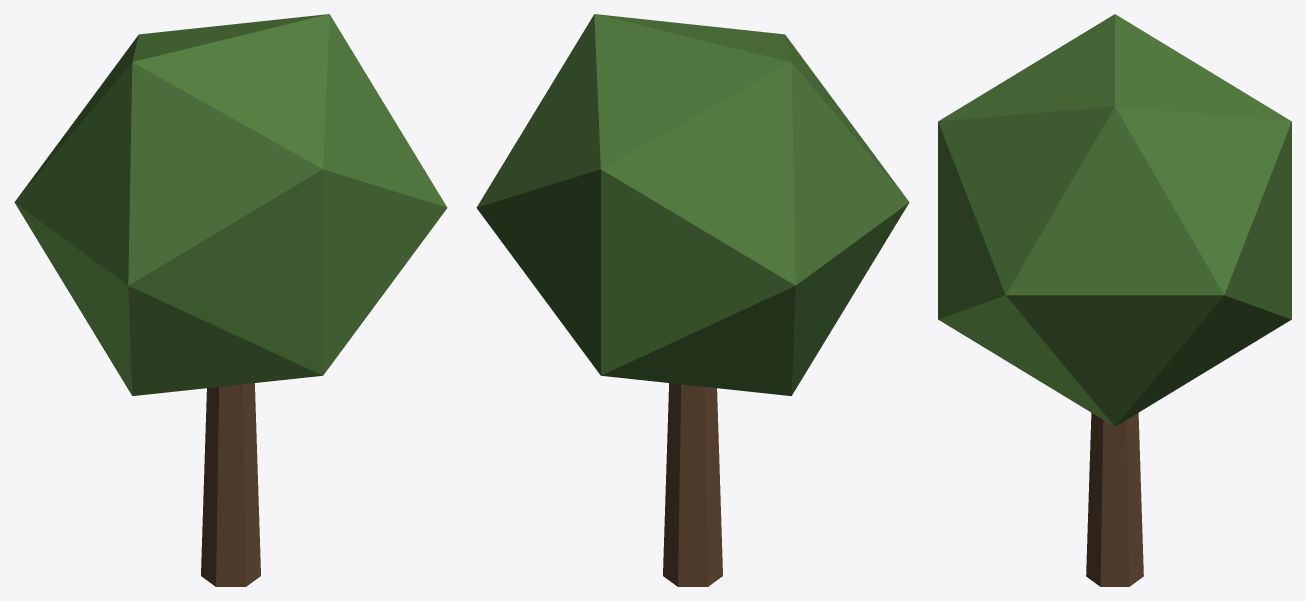
File: conforme-nature.glb
The picture shows the model from 3 angles, left to right: view 1: azimuth 30°, elevation 25°; view 2: azimuth 150°, elevation 25°; view 3: azimuth 270°, elevation 25°; orthographic projection. The views are drawn at different scales.
Parts seen in each view (by area): view 1: feuillage.001, arbre.001; view 2: feuillage.001, arbre.001; view 3: feuillage.001, arbre.001.
Boxes of the visible parts, x1,y1,x2,y2 form: feuillage.001: (14,14,447,395); arbre.001: (201,383,260,586); feuillage.001: (476,14,909,395); arbre.001: (663,383,722,586); feuillage.001: (938,14,1291,426); arbre.001: (1086,413,1143,586).
Bounding box in the file's own units: 3.06 × 4.93 × 3.06.
